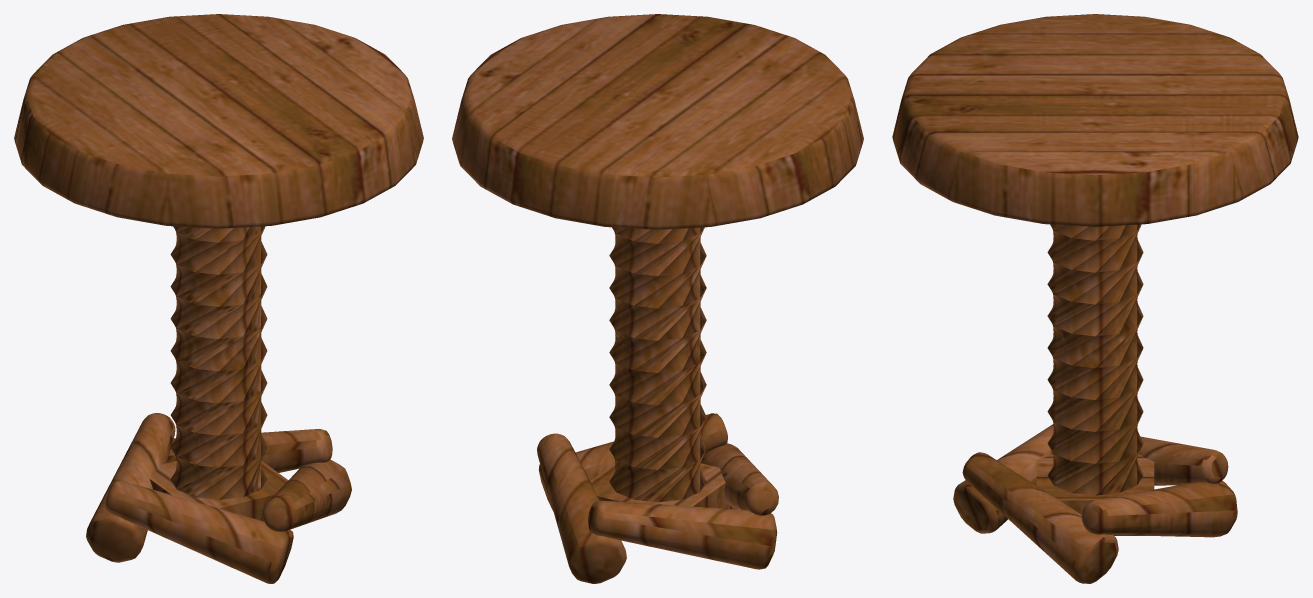
The model's file is Antique_Chair_02.fbx.
The picture shows the model from 3 angles, left to right: view 1: azimuth 30°, elevation 25°; view 2: azimuth 150°, elevation 25°; view 3: azimuth 270°, elevation 25°; orthographic projection.
Parts seen in each view (by area): view 1: Antique_Chair; view 2: Antique_Chair; view 3: Antique_Chair.
Part boxes in pixels (left/top/right/bottom): Antique_Chair: left=14, top=14, right=423, bottom=583; Antique_Chair: left=452, top=14, right=863, bottom=583; Antique_Chair: left=892, top=14, right=1298, bottom=583.
Size of the model in its own units: 0.4474 by 0.5365 by 0.4474.
1 material, 1 textured.
